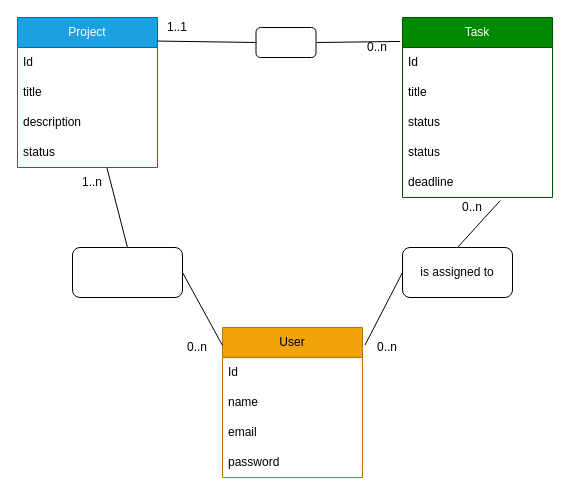
This 570x495 diagram has some shape labels left out. Each missing label, with the centre of its shape:
contains: the point at 285,42
participates as role: the point at 127,272
